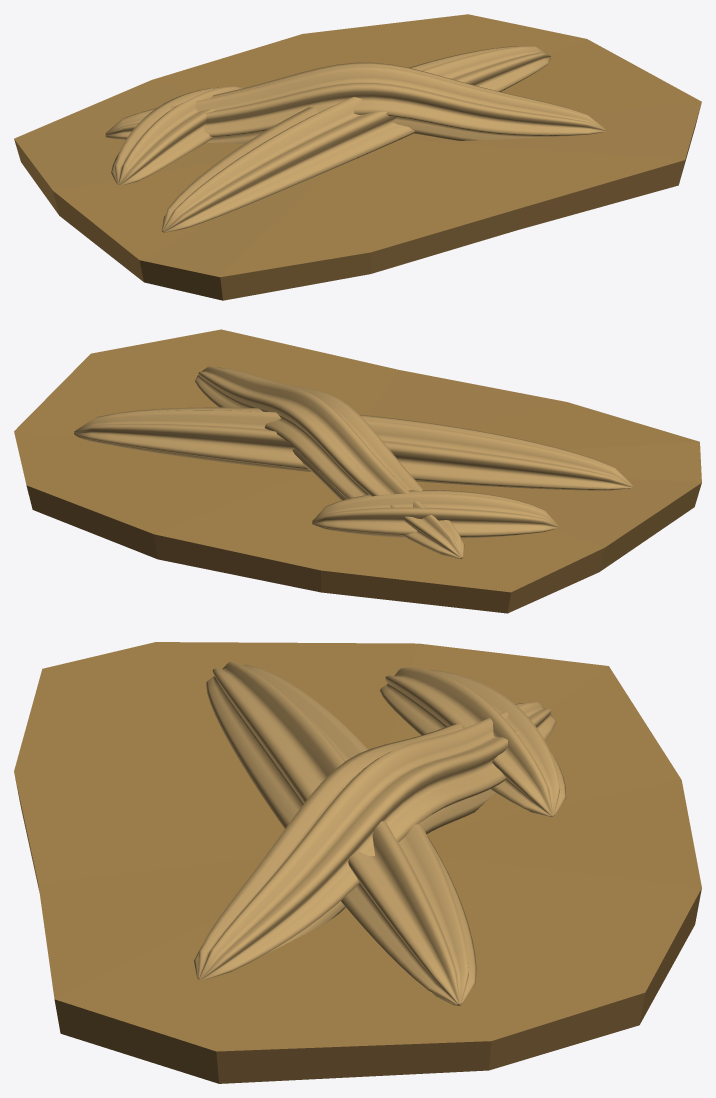
File: halopoa-furrowed-burrow.glb
3 views of the same model, one above another, from view 1: azimuth 30°, elevation 25°; view 2: azimuth 150°, elevation 25°; view 3: azimuth 270°, elevation 25° (orthographic). The views are drawn at different scales.
Parts seen in each view (by area): view 1: one-closed-sandstone-bedding-slab, oblique-overlapping-probe, long-low-probe, short-offcenter-probe; view 2: one-closed-sandstone-bedding-slab, long-low-probe, oblique-overlapping-probe, short-offcenter-probe; view 3: one-closed-sandstone-bedding-slab, oblique-overlapping-probe, long-low-probe, short-offcenter-probe.
Boxes of the visible parts, x1,y1,x2,y2 form: one-closed-sandstone-bedding-slab: (14,14,701,300); oblique-overlapping-probe: (105,62,605,143); long-low-probe: (161,46,550,232); short-offcenter-probe: (111,86,242,185); one-closed-sandstone-bedding-slab: (14,329,701,613); long-low-probe: (74,407,632,490); oblique-overlapping-probe: (195,366,464,558); short-offcenter-probe: (312,490,558,538); one-closed-sandstone-bedding-slab: (14,642,701,1083); oblique-overlapping-probe: (194,701,556,980); long-low-probe: (206,661,476,1005); short-offcenter-probe: (379,667,566,817).
Bounding box in the file's own units: 0.24 × 0.035 × 0.17.
